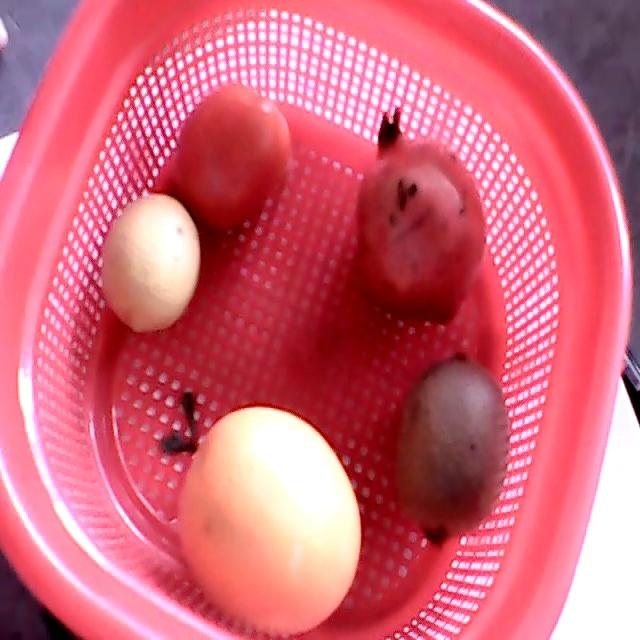kiwi: (401, 352, 507, 542)
lemon: (100, 192, 201, 332)
orange: (181, 405, 362, 636)
pomegranate: (353, 104, 486, 321)
tomato: (175, 82, 292, 231)
